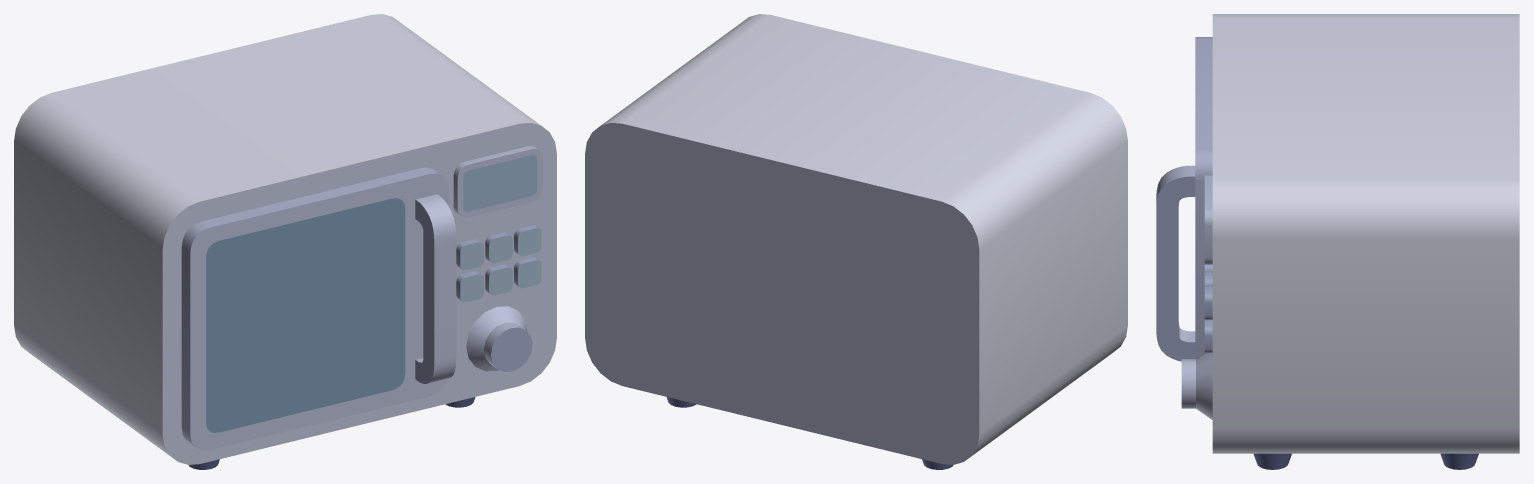
File: Microwave oven.fbx
The picture shows the model from 3 angles, left to right: view 1: azimuth 30°, elevation 25°; view 2: azimuth 150°, elevation 25°; view 3: azimuth 270°, elevation 25°; orthographic projection. The views are drawn at different scales.
Visible parts, largest first — view 1: Microwave, Microwave.001, Microwave.002; view 2: Microwave; view 3: Microwave, Microwave.001, Microwave.002.
Part boxes in pixels (box(x1,y1,x2,y2)): Microwave: box(14, 14, 556, 469); Microwave.001: box(181, 167, 456, 450); Microwave.002: box(466, 306, 532, 371); Microwave: box(585, 14, 1127, 469); Microwave: box(1204, 14, 1519, 469); Microwave.001: box(1156, 37, 1212, 361); Microwave.002: box(1181, 353, 1212, 419).
Size of the model in its own units: 1.18 by 0.835 by 0.915.
